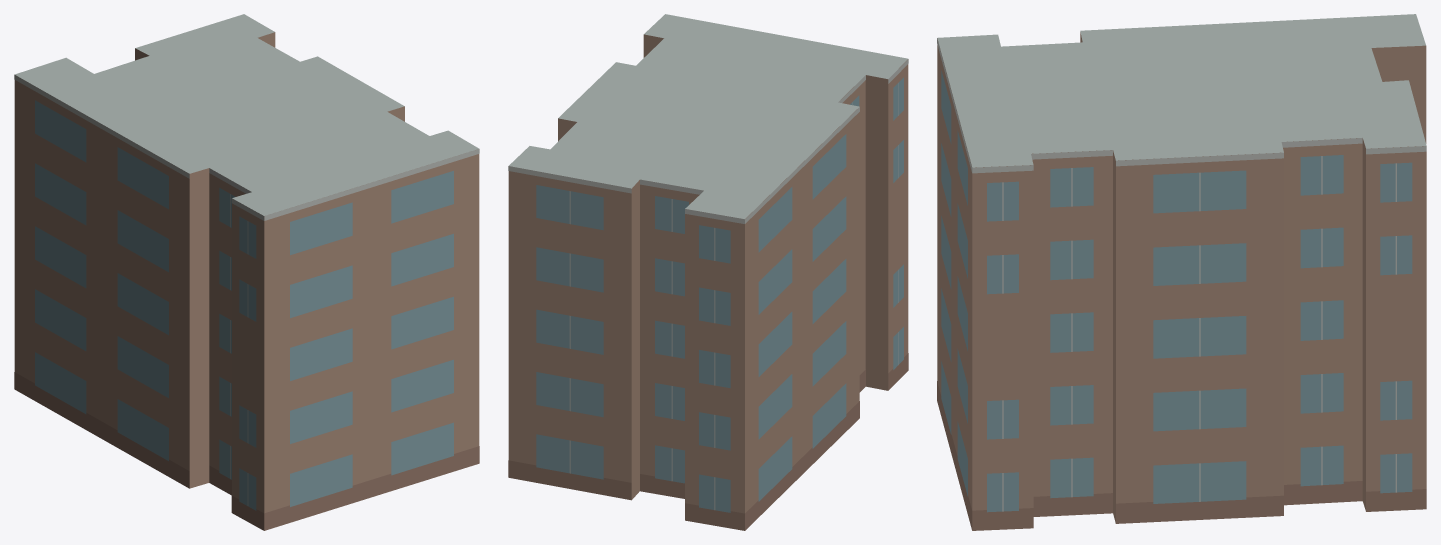
The model's file is survey-upis-32743534.glb.
3 views of the same model, side by side, from view 1: azimuth 30°, elevation 25°; view 2: azimuth 150°, elevation 25°; view 3: azimuth 270°, elevation 25° (orthographic). The views are drawn at different scales.
Visible parts, largest first — view 1: survey-upis-32743534.tmp; view 2: survey-upis-32743534.tmp; view 3: survey-upis-32743534.tmp.
Part boxes in pixels (<box>): survey-upis-32743534.tmp: <box>14,14,479,530</box>; survey-upis-32743534.tmp: <box>508,14,908,530</box>; survey-upis-32743534.tmp: <box>937,14,1426,530</box>.
Bounding box in the file's own units: 13.88 × 15.3 × 18.69.
